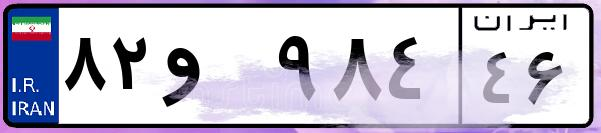2: (110, 28, 158, 98)
4: (385, 28, 445, 110), (475, 38, 525, 113)
6: (525, 38, 570, 115)
8: (330, 28, 385, 110), (57, 26, 110, 100)
9: (270, 28, 330, 110)
و: (158, 20, 270, 120)
